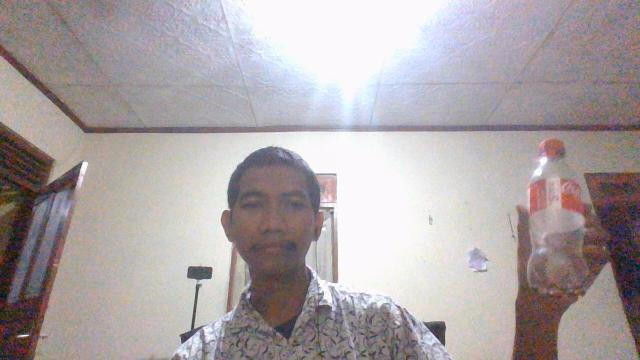coca-cola: (517, 136, 589, 304)
